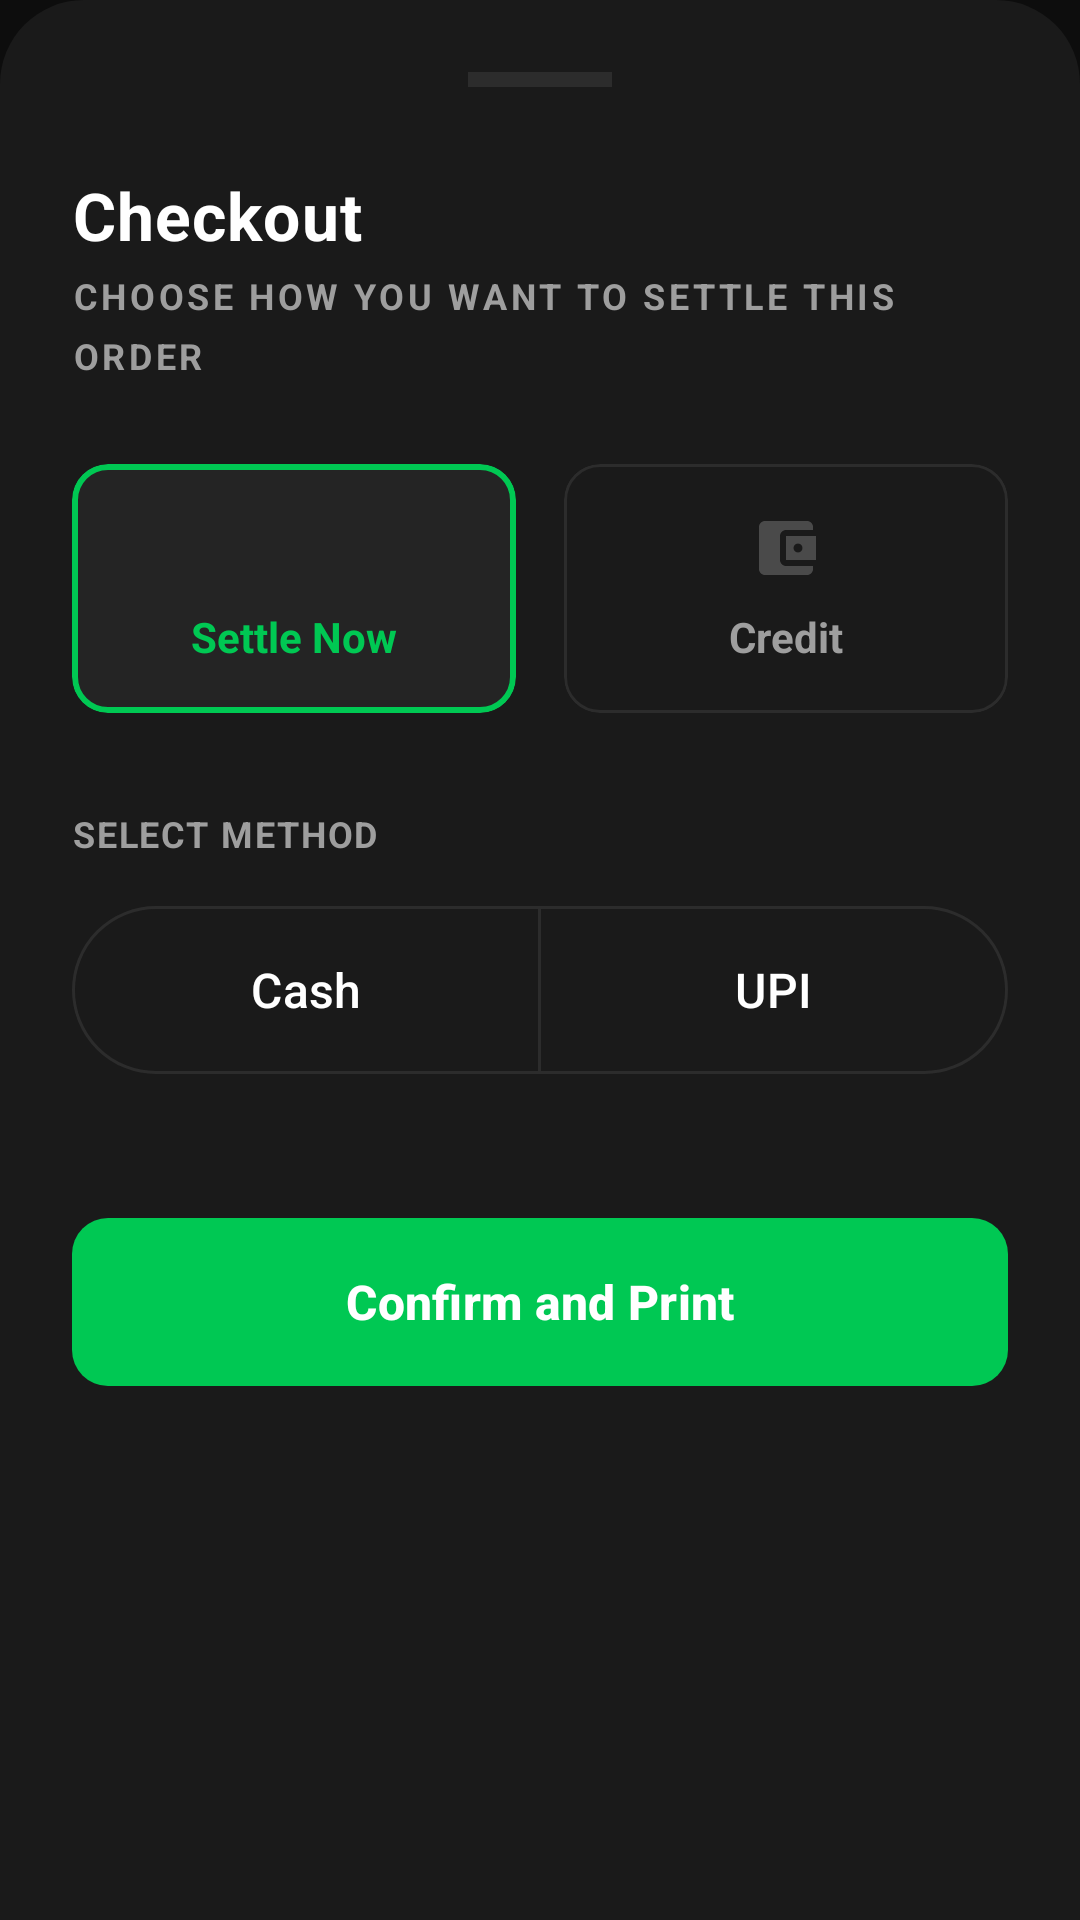

Screen size 1080x1920. Icon name, then its center in pixels as [x,y]:
wallet: [787,548]
